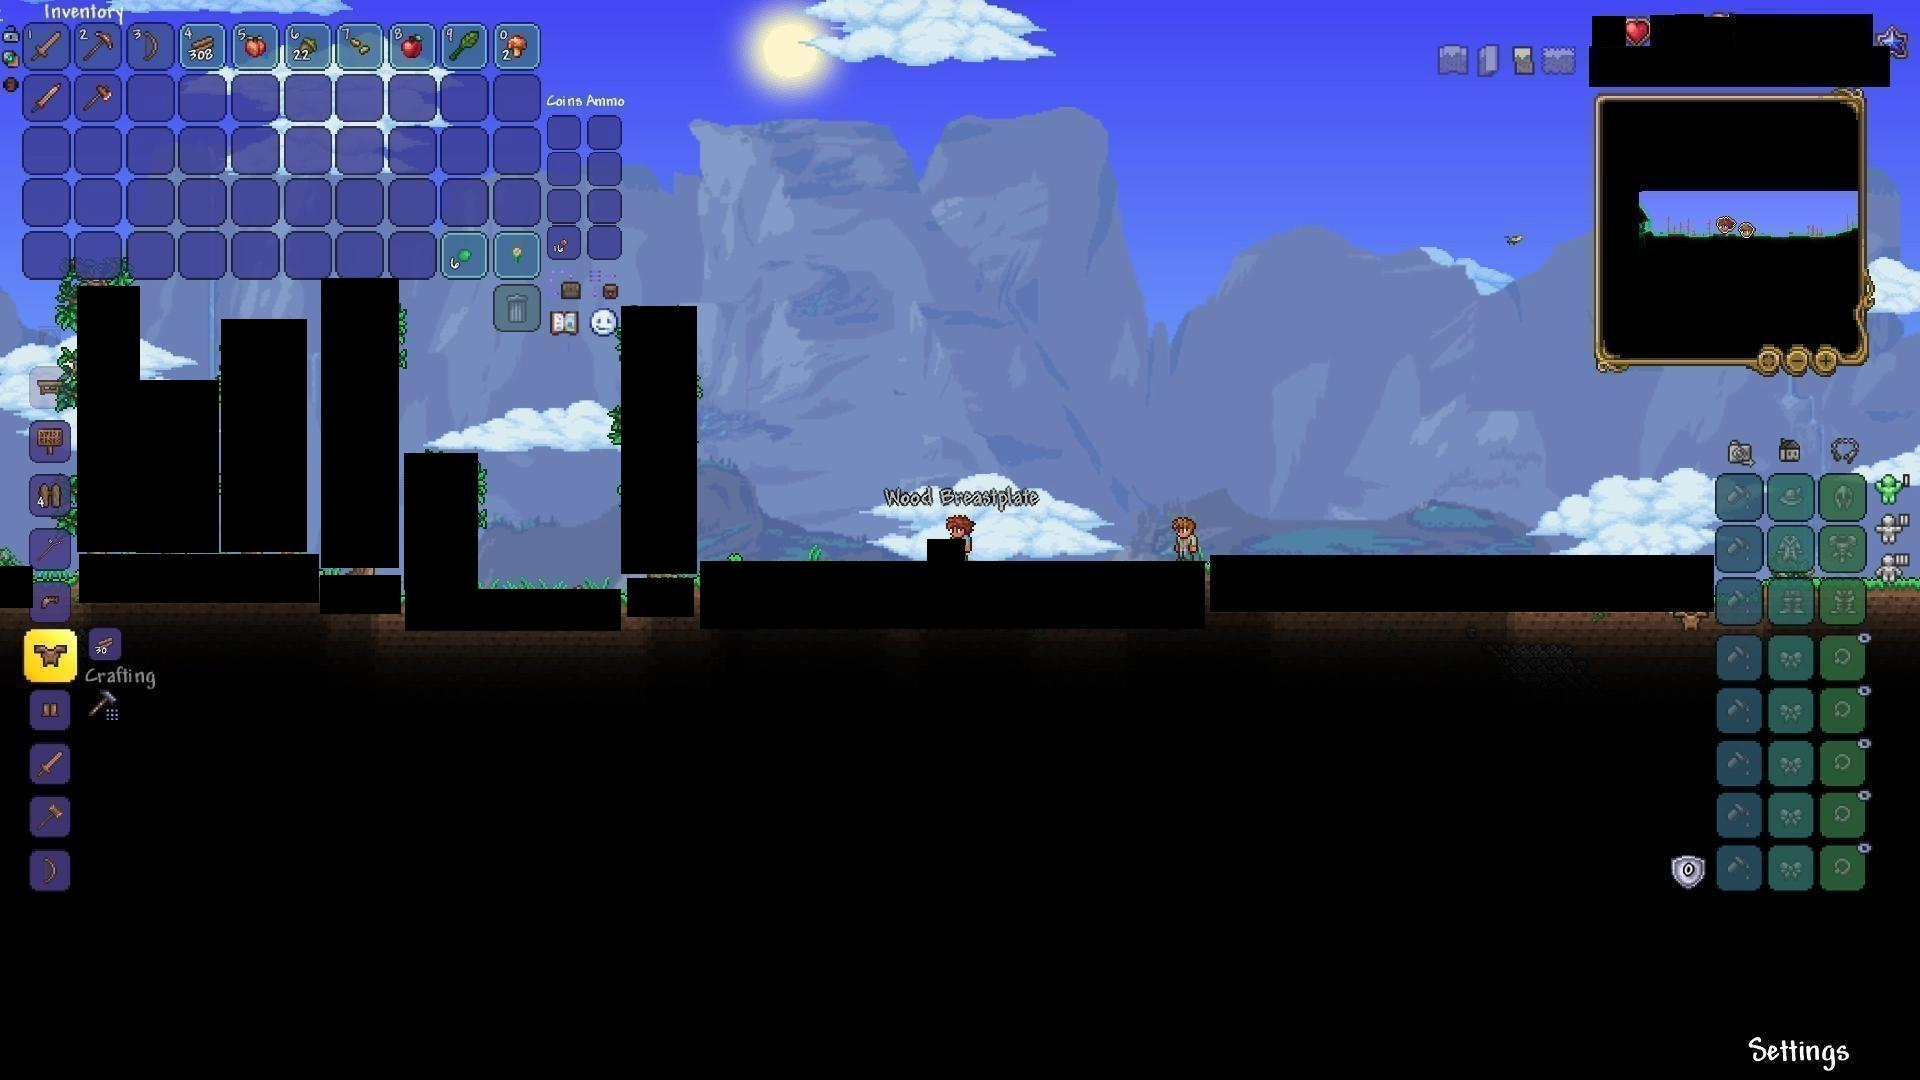breastplate: (36, 644, 67, 669)
heart: (1625, 15, 1651, 44)
helmet: (36, 589, 65, 616)
legs: (38, 698, 63, 723)
wood: (186, 30, 216, 58), (91, 632, 120, 659), (243, 36, 266, 61)
workbench: (26, 373, 58, 396)
